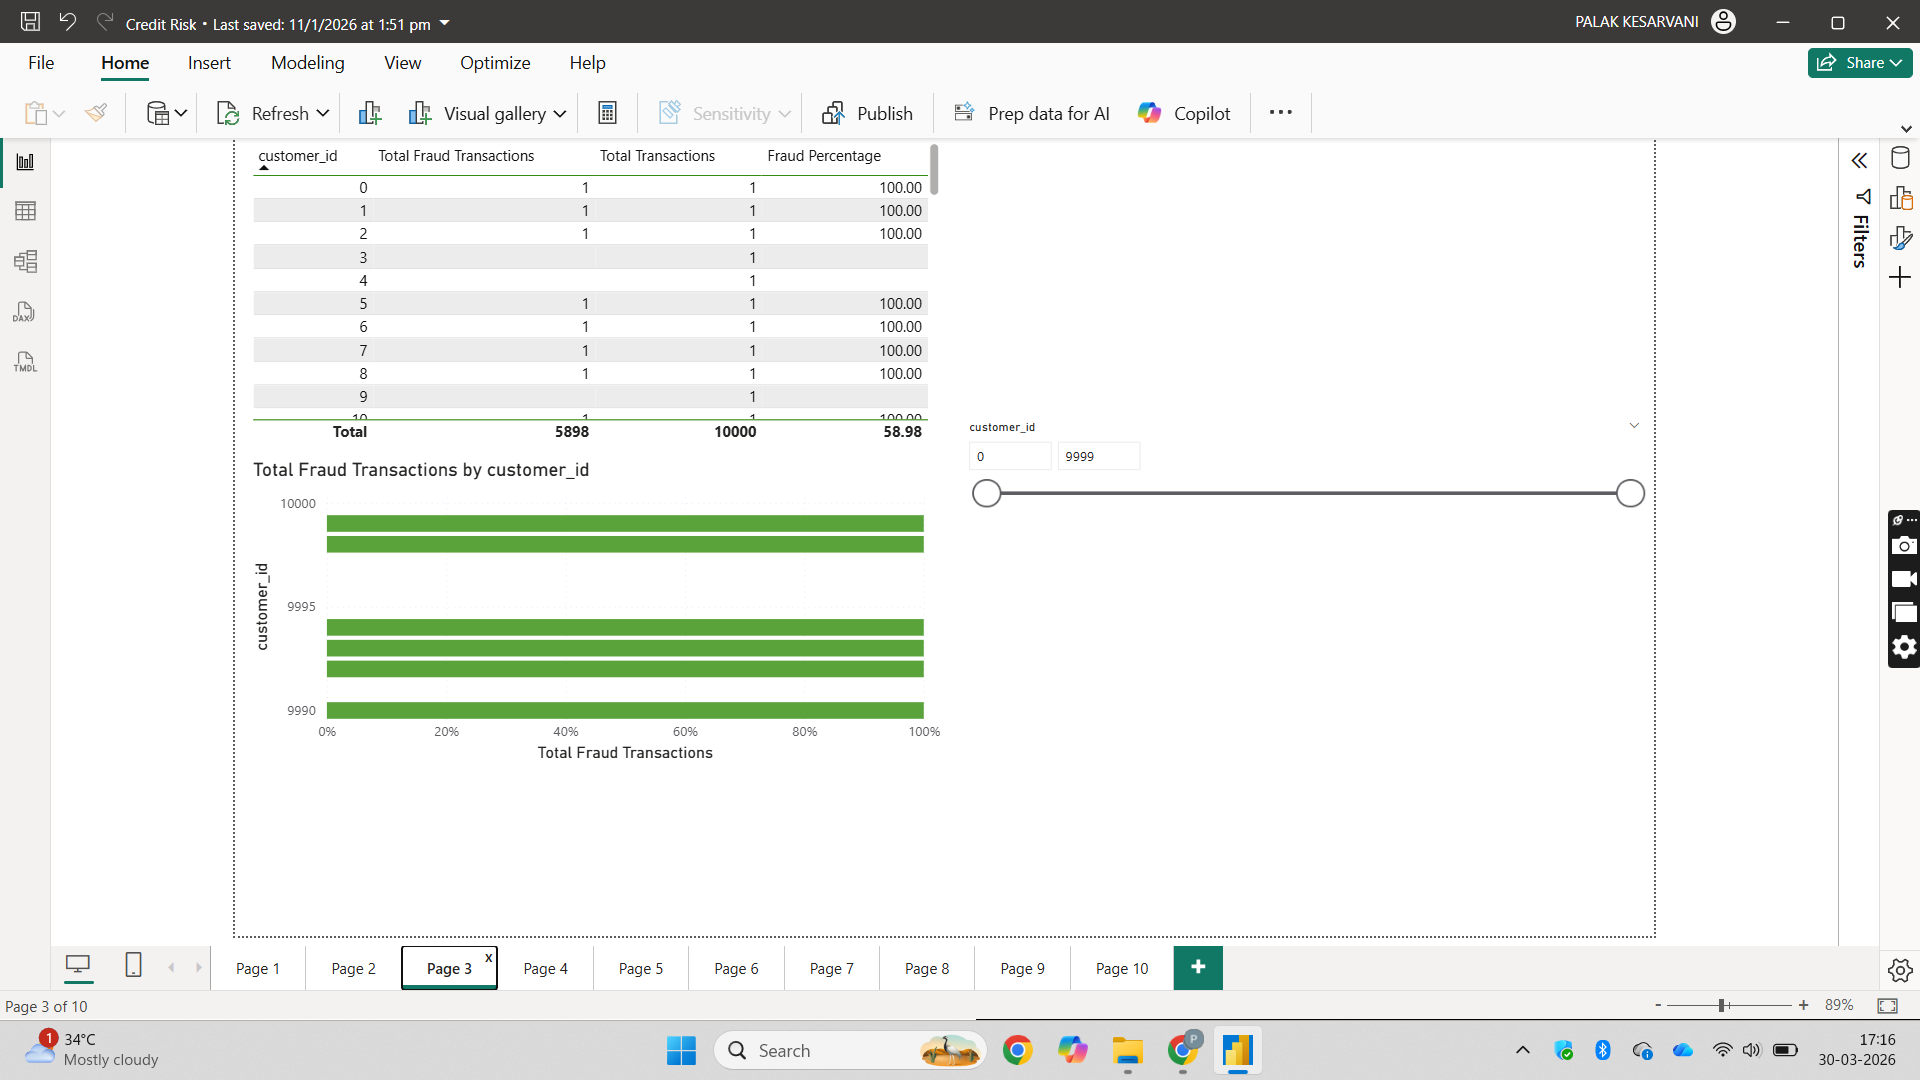

The dashboard page shown, as its layout file describes it:
{"tool":"powerbi","page":{"name":"Page 3","canvas":[1280,720],"ordinal":2},"visuals":[{"type":"tableEx","fields":{"Values":["final_fraud_cleaned.customer_id","final_fraud_cleaned.Total Fraud Transactions","final_fraud_cleaned.Total Transactions","final_fraud_cleaned.Fraud Percentage"]},"box":[10.7,0,630,279.4],"z":0},{"type":"hundredPercentStackedBarChart","fields":{"Category":["final_fraud_cleaned.customer_id"],"Y":["final_fraud_cleaned.Total Fraud Transactions"]},"box":[11,289,630,279],"z":1000},{"type":"slicer","fields":{"Values":["final_fraud_cleaned.customer_id"]},"box":[649.6,249.2,630,137],"z":2000}]}

Visuals, with their boxes on the page's 1280x720 design canvas (x1, y1, x2, y2). These are canvas units, not pixel positions in the 1920x1080 screenshot, which may show the page scaled, cropped or inside an application window:
tableEx - final_fraud_cleaned.customer_id x final_fraud_cleaned.Total Fraud Transactions: bbox=(11, 0, 641, 279)
hundredPercentStackedBarChart - final_fraud_cleaned.customer_id x final_fraud_cleaned.Total Fraud Transactions: bbox=(11, 289, 641, 568)
slicer - final_fraud_cleaned.customer_id: bbox=(650, 249, 1280, 386)
